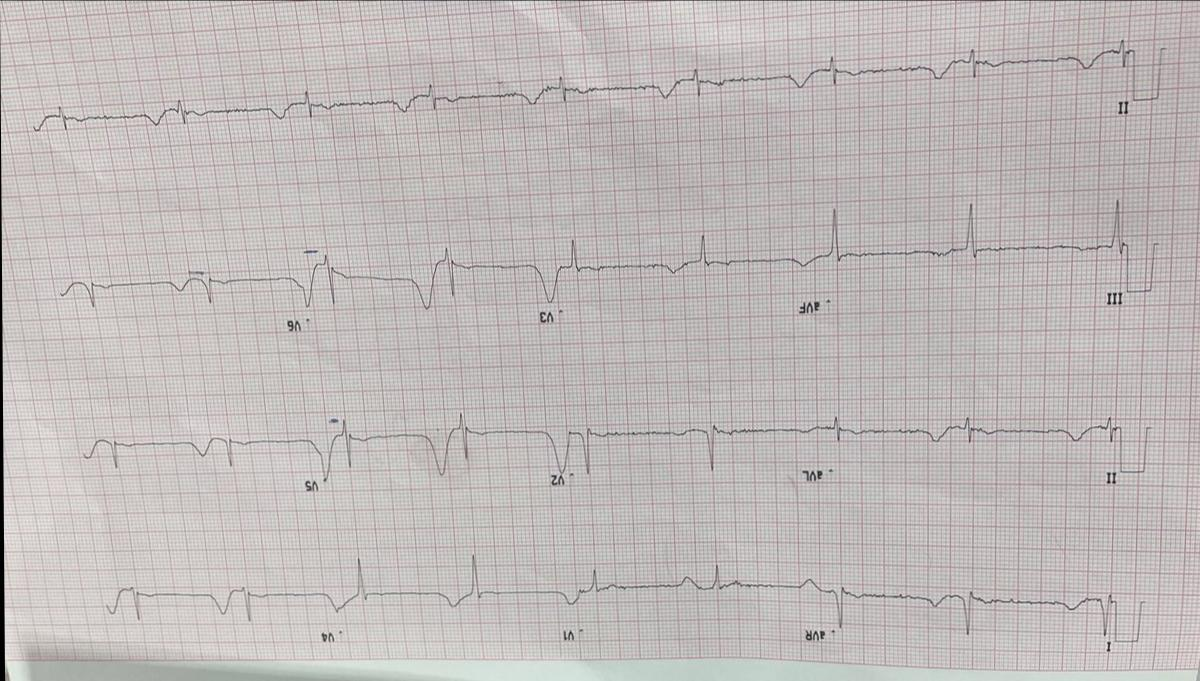Lead_I: (833, 566, 1119, 661)
Lead_II: (835, 394, 1124, 498)
Lead_III: (825, 188, 1130, 314)
Lead_II_ext: (17, 36, 1142, 134)
Lead_V1: (346, 533, 584, 654)
Lead_V2: (331, 390, 579, 505)
Lead_V3: (311, 228, 566, 338)
Lead_V4: (100, 544, 344, 660)
Lead_V5: (74, 404, 334, 506)
Lead_V6: (54, 248, 313, 346)
Lead_aVF: (564, 220, 830, 324)
Lead_aVL: (575, 399, 837, 499)
Lead_aVR: (584, 549, 839, 654)
